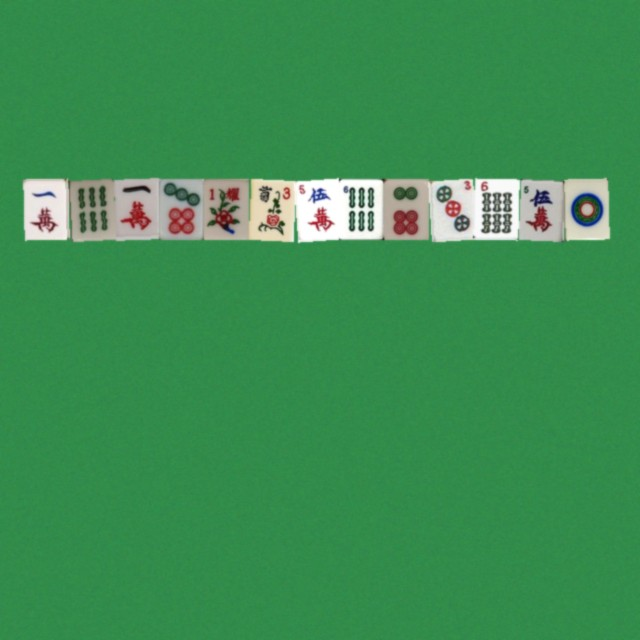tile: (23, 178, 68, 239), (68, 178, 113, 239), (113, 178, 158, 239), (158, 178, 203, 239), (203, 178, 248, 239), (248, 178, 293, 239), (293, 178, 338, 239), (338, 178, 383, 239), (383, 178, 428, 239), (428, 178, 473, 239), (473, 178, 518, 239), (518, 178, 563, 239), (563, 178, 608, 239)
